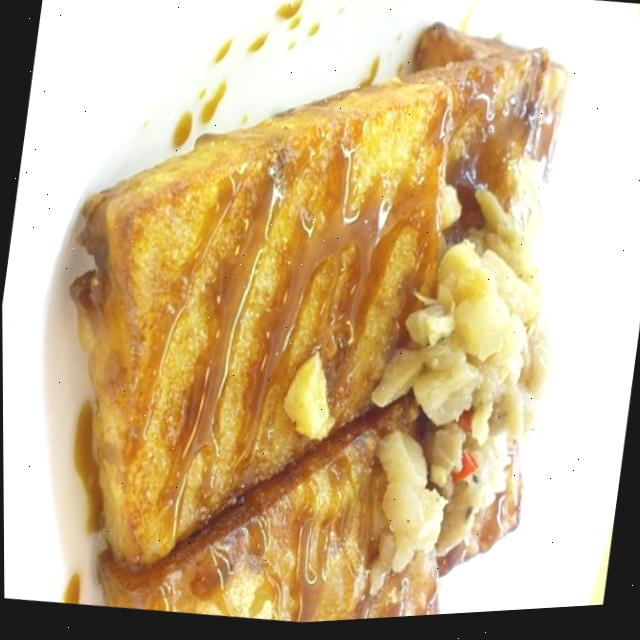蛋糕甜品: (2, 0, 624, 640)
